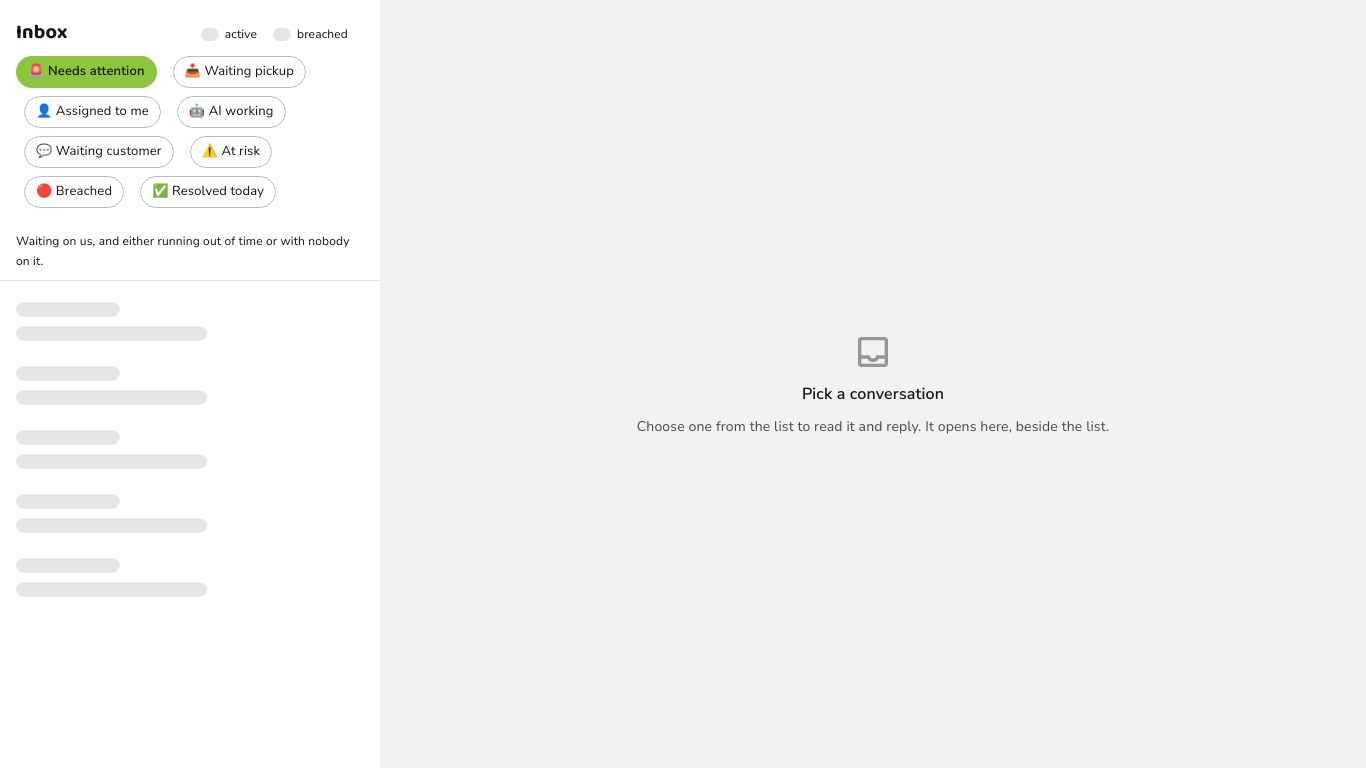
Test: InboxWorkspace › changes the work when a queue is chosen, not just the rows
Click the tab "🔴 Breached" at x=74, y=192, box [24, 176, 124, 208]
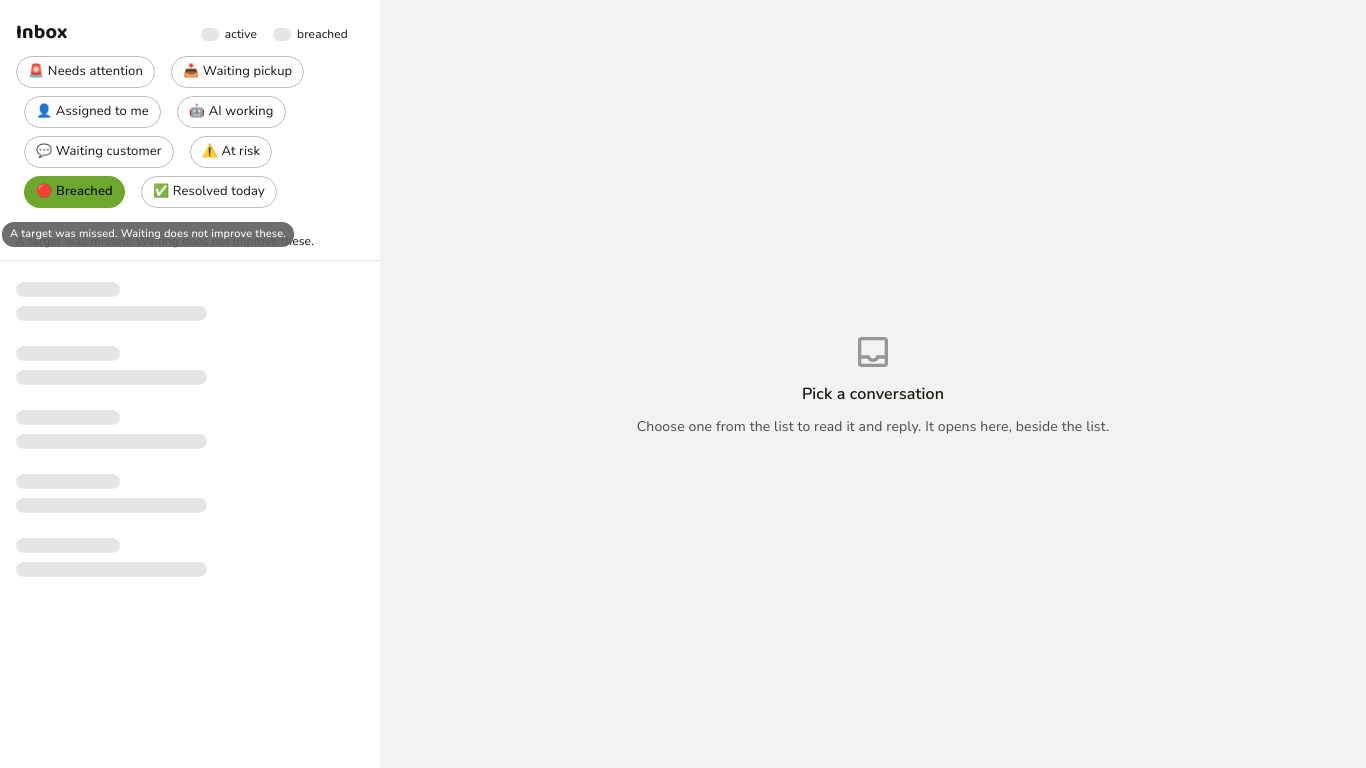
Expected: the text "A target was missed. Waiting does not improve these." below "🔴 Breached" is shown, [16, 233, 314, 249]
